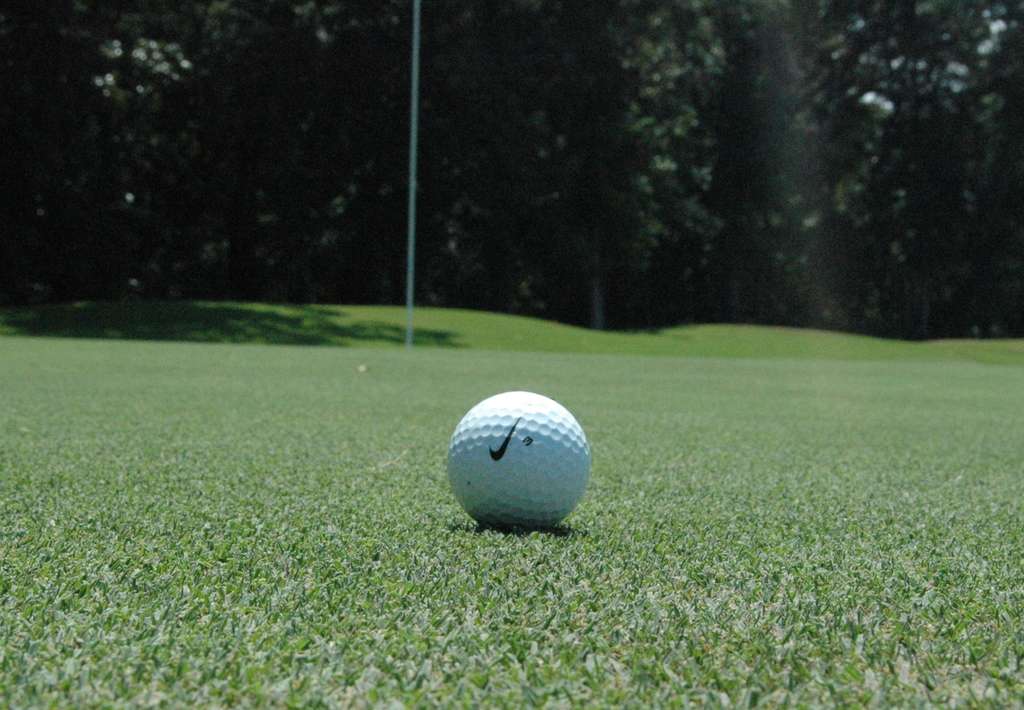Ball: (452, 392, 591, 532)
